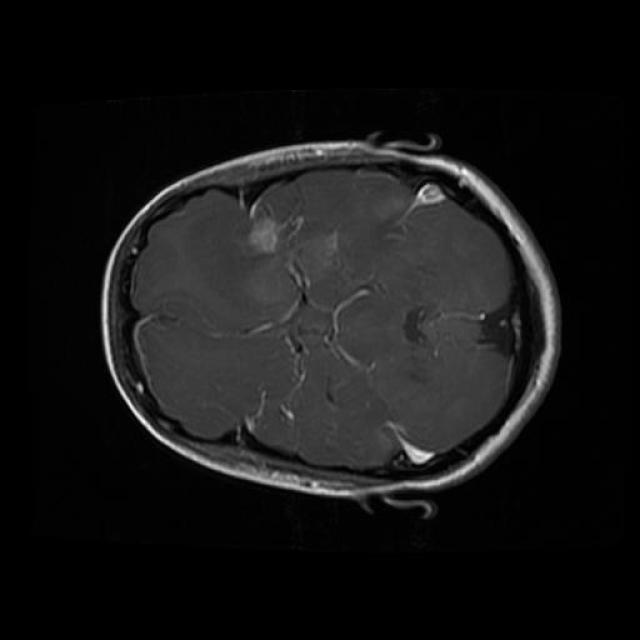Glioma: (248, 199, 338, 289)
